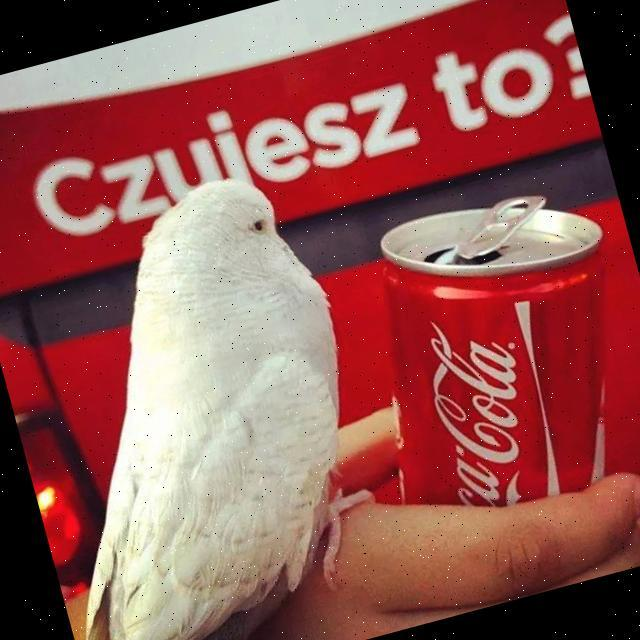coca-cola: (329, 171, 640, 535)
